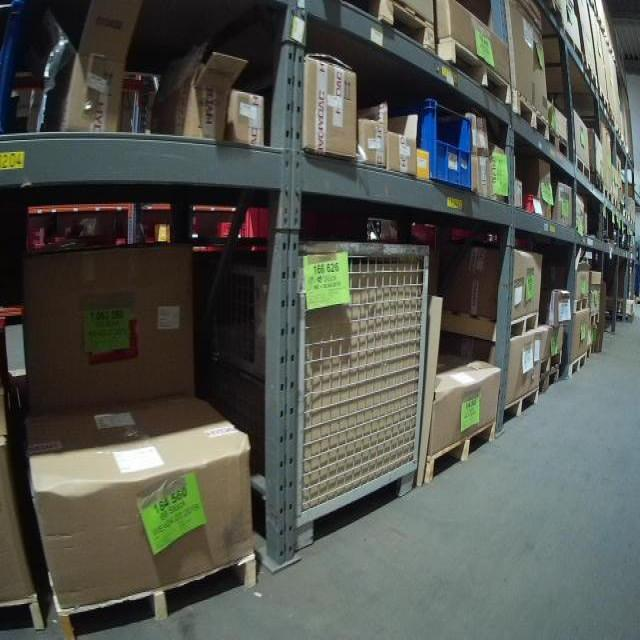pallet: (63, 547, 258, 637), (426, 36, 514, 115), (327, 2, 439, 57), (420, 413, 498, 489), (443, 310, 538, 347), (503, 92, 557, 149), (0, 592, 50, 640), (500, 378, 540, 438), (548, 123, 572, 167), (571, 153, 595, 191), (536, 363, 561, 395), (560, 353, 587, 381), (537, 351, 563, 375), (566, 296, 590, 314), (603, 183, 613, 208), (589, 310, 602, 325)
small_load_carrier: (417, 93, 472, 190), (523, 190, 544, 217)
stillage: (188, 231, 431, 555)
